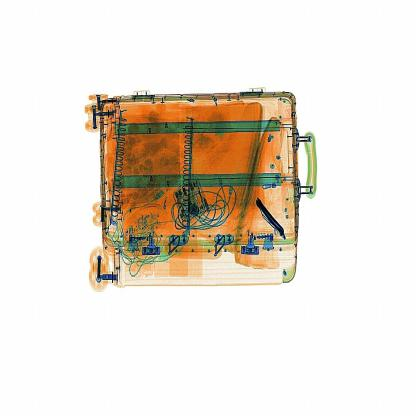knife: (248, 189, 296, 245)
